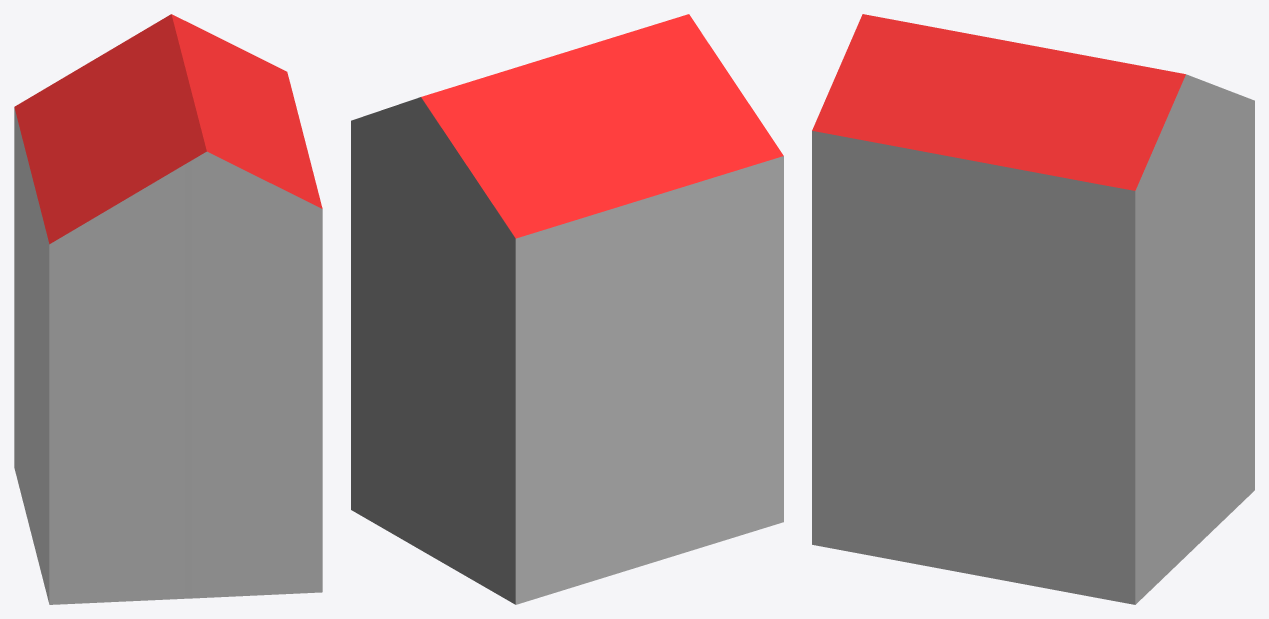
Rendered from DEBY_LOD2_4907007.dae.
3 renders of one model, left to right at view 1: azimuth 30°, elevation 25°; view 2: azimuth 150°, elevation 25°; view 3: azimuth 270°, elevation 25°, orthographic. The views are drawn at different scales.
Size of the model in its own units: 17.35 by 18.56 by 22.29.
